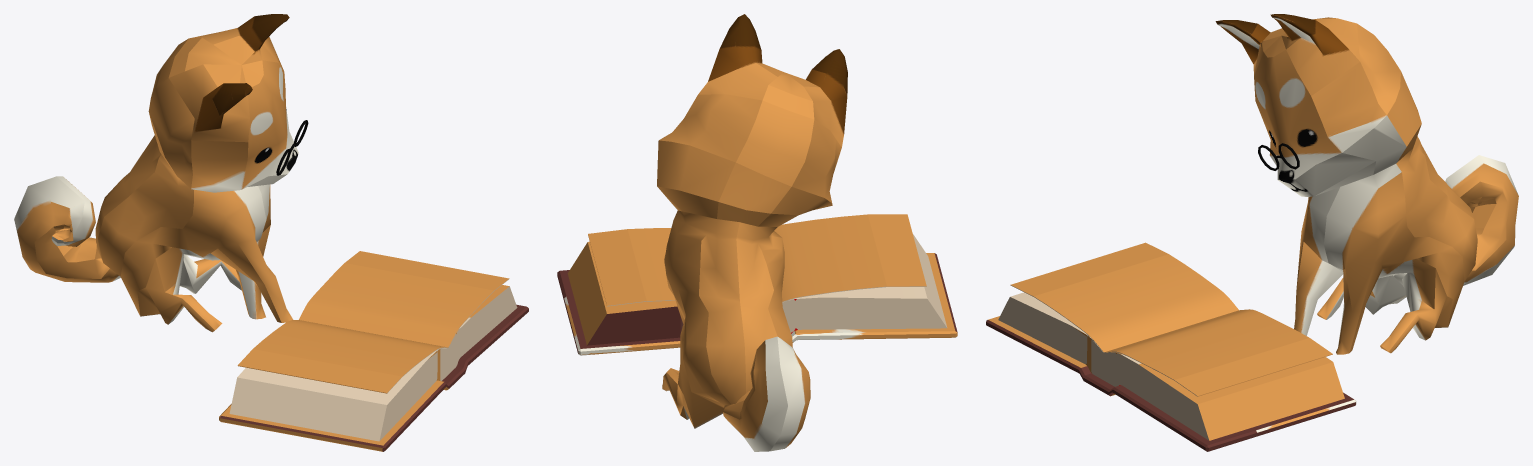
File: book_frame24.obj
The picture shows the model from 3 angles, left to right: view 1: azimuth 30°, elevation 25°; view 2: azimuth 150°, elevation 25°; view 3: azimuth 270°, elevation 25°; orthographic projection. The views are drawn at different scales.
Parts seen in each view (by area): view 1: StidyGlasses_Computer_Sitting:Sitting:newRigging:BodzL1, polySurface1; view 2: StidyGlasses_Computer_Sitting:Sitting:newRigging:BodzL1, polySurface1; view 3: StidyGlasses_Computer_Sitting:Sitting:newRigging:BodzL1, polySurface1.
Boxes of the visible parts, <box> form: StidyGlasses_Computer_Sitting:Sitting:newRigging:BodzL1: <box>14,14,298,332</box>; polySurface1: <box>219,251,528,451</box>; StidyGlasses_Computer_Sitting:Sitting:newRigging:BodzL1: <box>657,14,847,451</box>; polySurface1: <box>557,214,957,355</box>; StidyGlasses_Computer_Sitting:Sitting:newRigging:BodzL1: <box>1215,14,1518,354</box>; polySurface1: <box>986,242,1356,451</box>.
Size of the model in its own units: 9.18 by 7.67 by 11.01.
4 materials, 4 textured.
